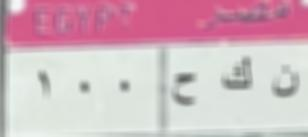0: (76, 71, 94, 100), (116, 75, 138, 98)
1: (36, 65, 55, 103)
7aa: (170, 68, 200, 112)
kaaf: (218, 56, 256, 97)
noon: (268, 58, 300, 105)
